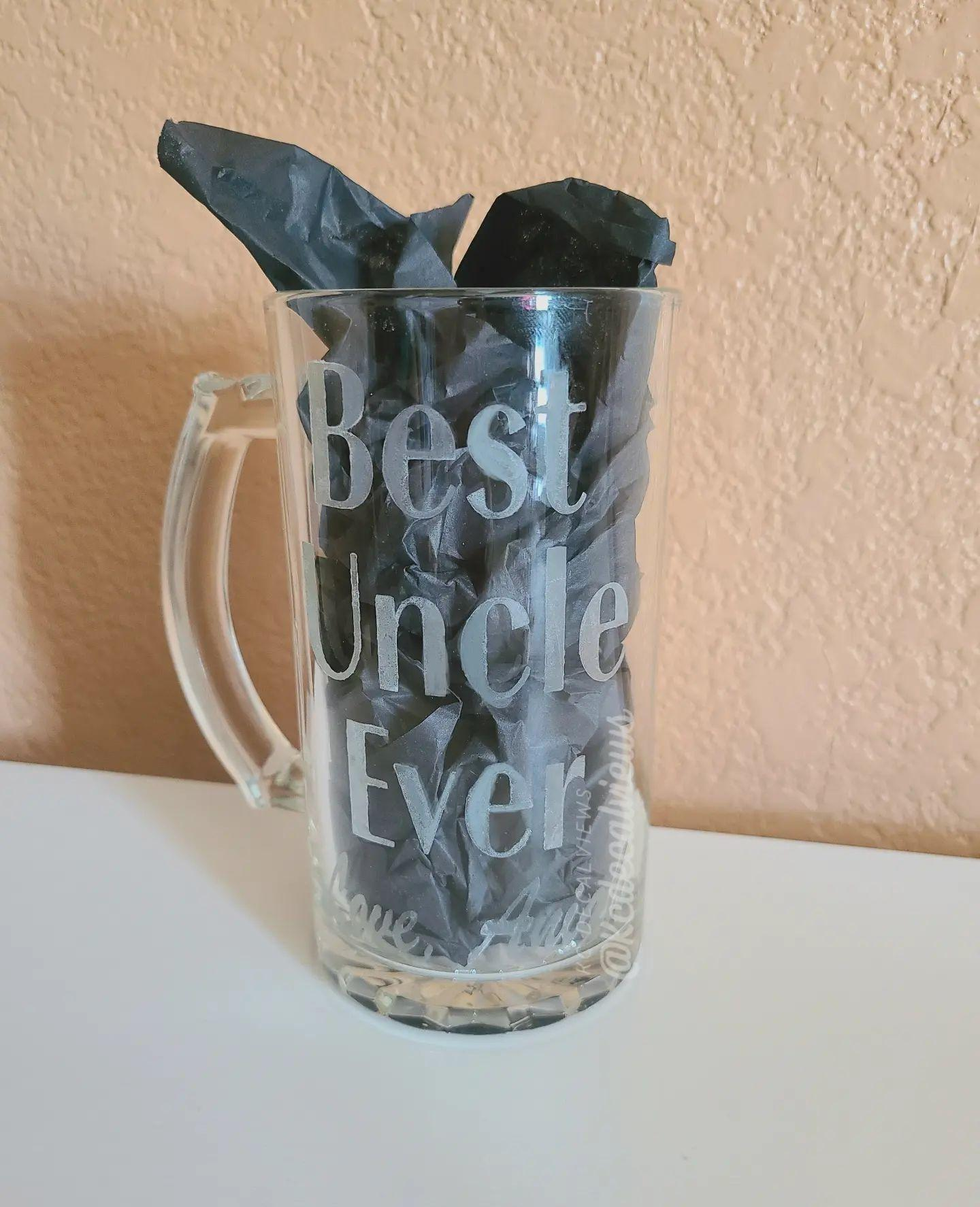glass-mug: (150, 275, 676, 1034)
